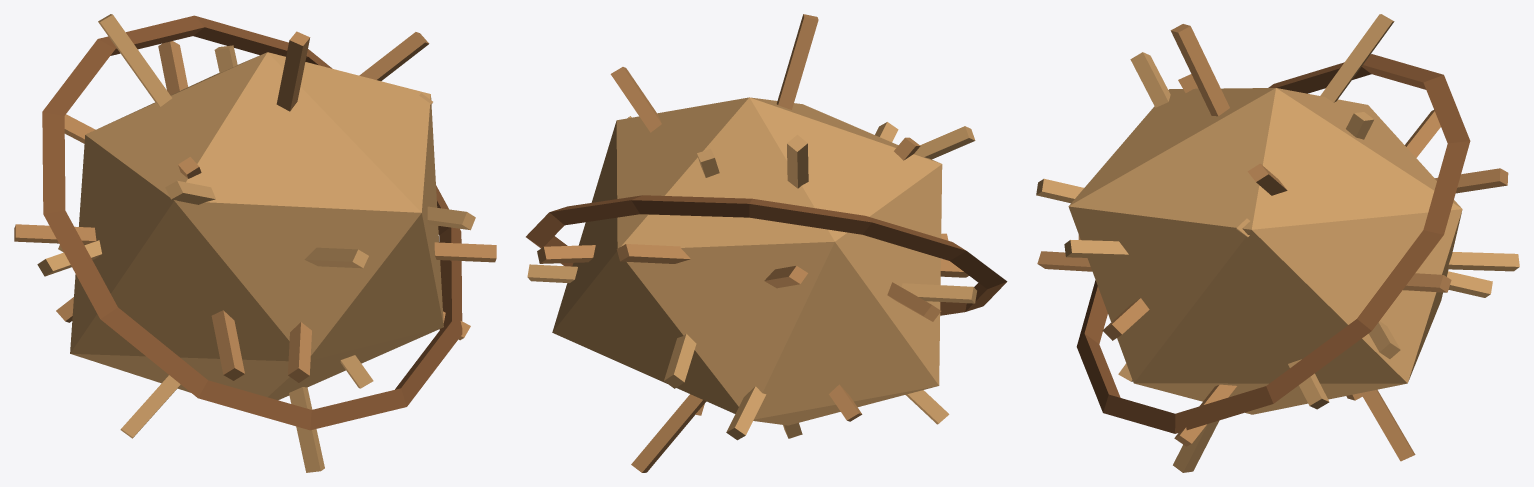
Rendered from Tumbleweed.fbx.
The picture shows the model from 3 angles, left to right: view 1: azimuth 30°, elevation 25°; view 2: azimuth 150°, elevation 25°; view 3: azimuth 270°, elevation 25°; orthographic projection. The views are drawn at different scales.
Parts seen in each view (by area): view 1: Tumbleweed; view 2: Tumbleweed; view 3: Tumbleweed.
Part boxes in pixels (x1,y1,x2,y2): Tumbleweed: (14, 14, 496, 472); Tumbleweed: (526, 14, 1007, 472); Tumbleweed: (1036, 14, 1519, 472).
Size of the model in its own units: 2.5 by 2.5 by 2.5.
